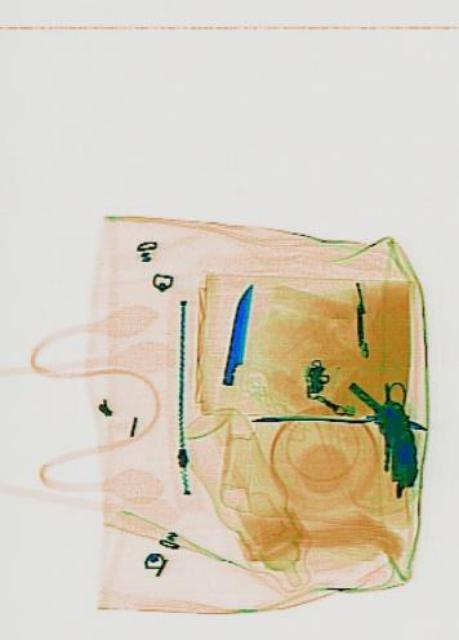Knife: (219, 278, 252, 386)
